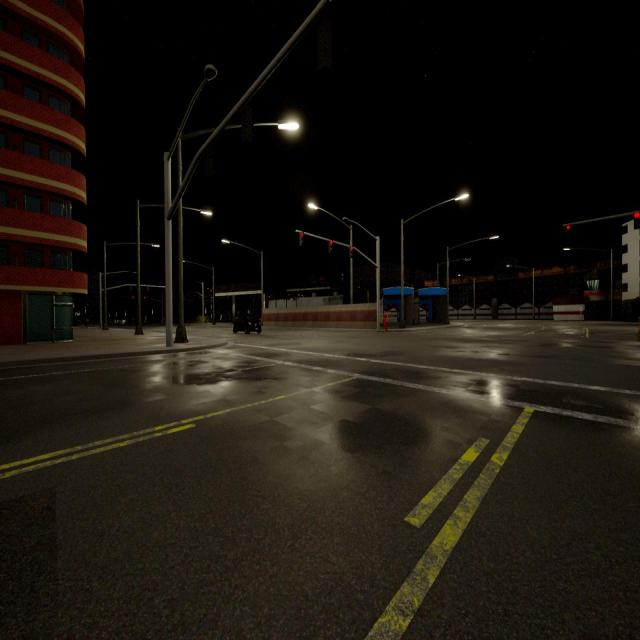Pedestrian: (383, 310, 388, 333)
Traffic_Signs: (579, 306, 583, 310)
Vehicle: (233, 316, 261, 334)
traffic_light: (316, 13, 332, 68), (242, 102, 253, 144), (633, 212, 640, 224), (328, 240, 333, 253), (300, 232, 304, 246), (566, 224, 570, 230), (350, 246, 352, 257), (144, 296, 146, 300), (132, 296, 134, 298)
